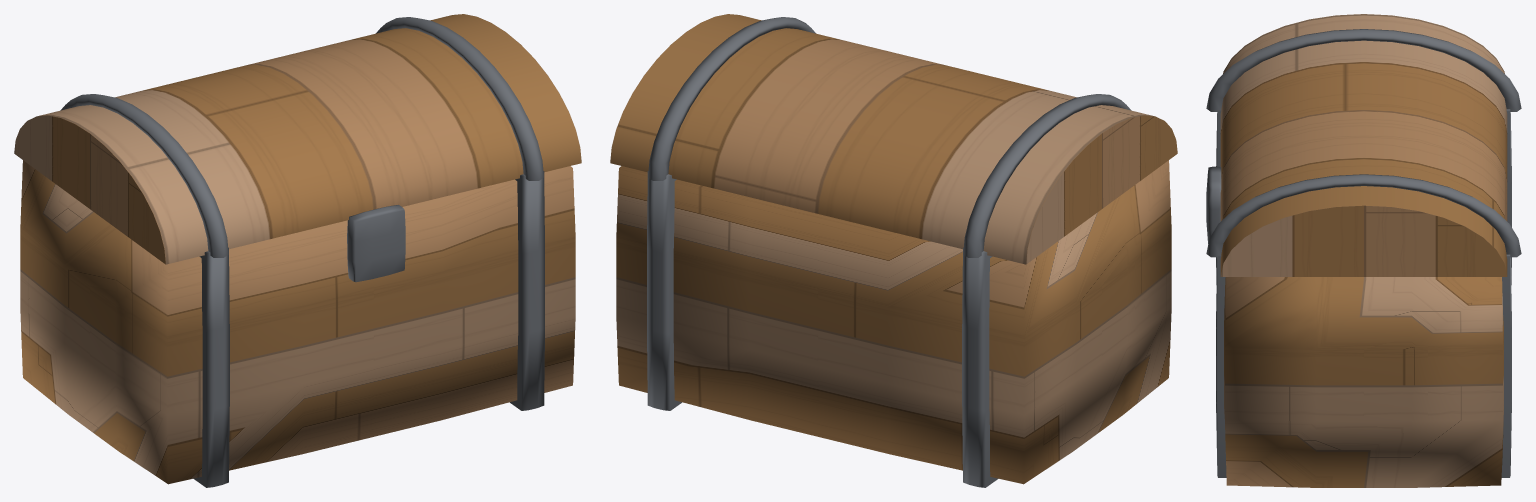
File: station_chest_iron_bands.glb
3 renders of one model, left to right at view 1: azimuth 30°, elevation 25°; view 2: azimuth 150°, elevation 25°; view 3: azimuth 270°, elevation 25°, orthographic. The views are drawn at different scales.
Parts seen in each view (by area): view 1: station_chest_wood, station_chest; view 2: station_chest_wood, station_chest; view 3: station_chest_wood, station_chest.
Part boxes in pixels (left/top/right/bottom): station_chest_wood: left=14, top=14, right=581, bottom=484; station_chest: left=60, top=17, right=544, bottom=487; station_chest_wood: left=610, top=14, right=1177, bottom=484; station_chest: left=647, top=17, right=1131, bottom=487; station_chest_wood: left=1220, top=14, right=1507, bottom=487; station_chest: left=1206, top=29, right=1521, bottom=477.
Size of the model in its own units: 0.95 by 0.6915 by 0.66.
2 materials, 1 textured.
